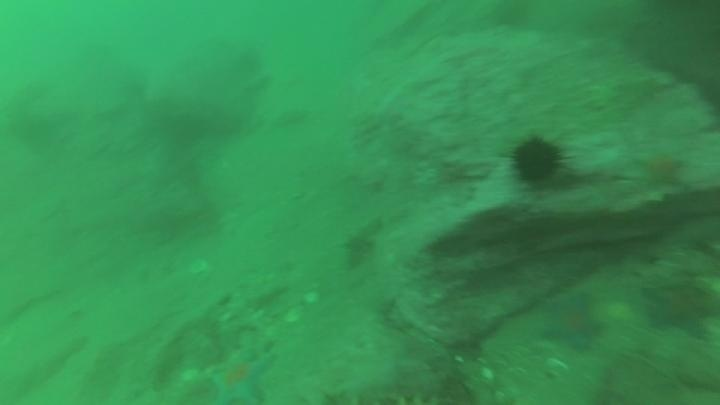echinus: (507, 132, 569, 189)
holothurian: (325, 362, 453, 405)
starfish: (639, 275, 718, 340), (538, 291, 607, 354), (206, 350, 275, 405), (631, 145, 689, 191)
